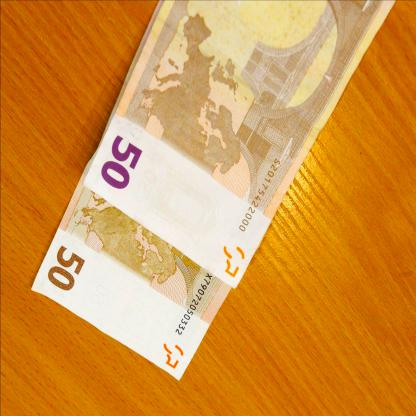euro_banknote: (97, 46, 332, 256), (42, 195, 235, 343)
